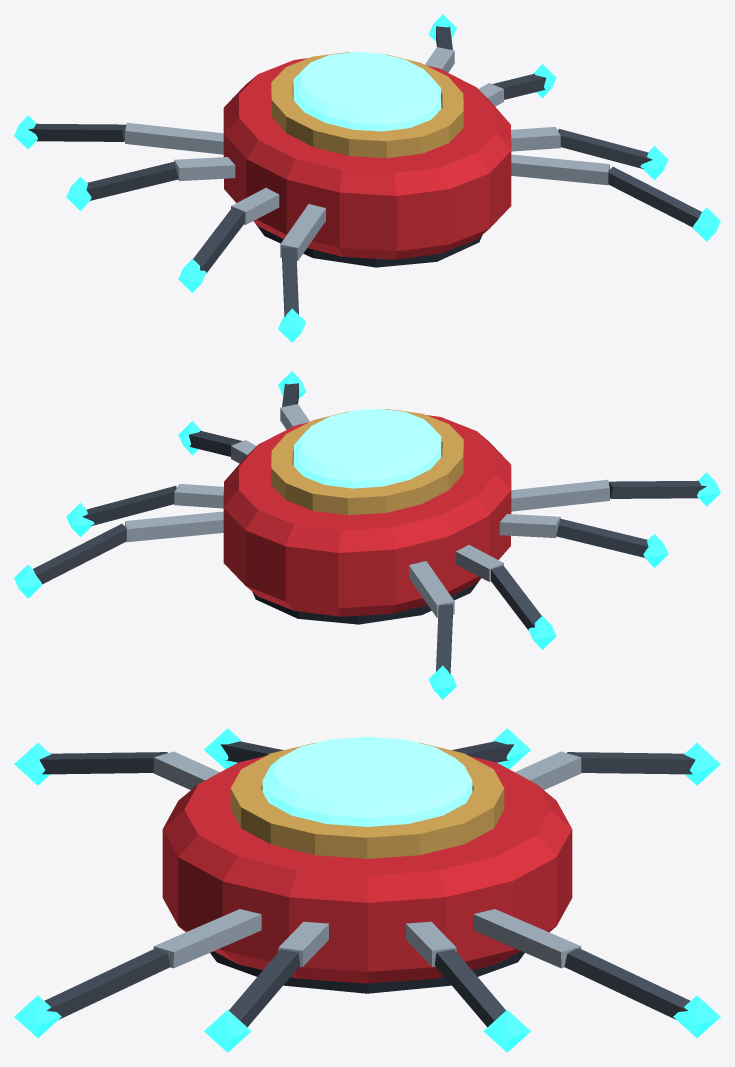
File: spider_tracer_dart.fbx
3 views of the same model, one above another, from view 1: azimuth 30°, elevation 25°; view 2: azimuth 150°, elevation 25°; view 3: azimuth 270°, elevation 25° (orthographic). The views are drawn at different scales.
Visible parts, largest first — view 1: spider_tracer_dart; view 2: spider_tracer_dart; view 3: spider_tracer_dart.
Boxes of the visible parts, bbox=[...] form: spider_tracer_dart: bbox=[14, 14, 720, 342]; spider_tracer_dart: bbox=[14, 371, 720, 699]; spider_tracer_dart: bbox=[14, 728, 720, 1052].
Size of the model in its own units: 80 by 20 by 80.
